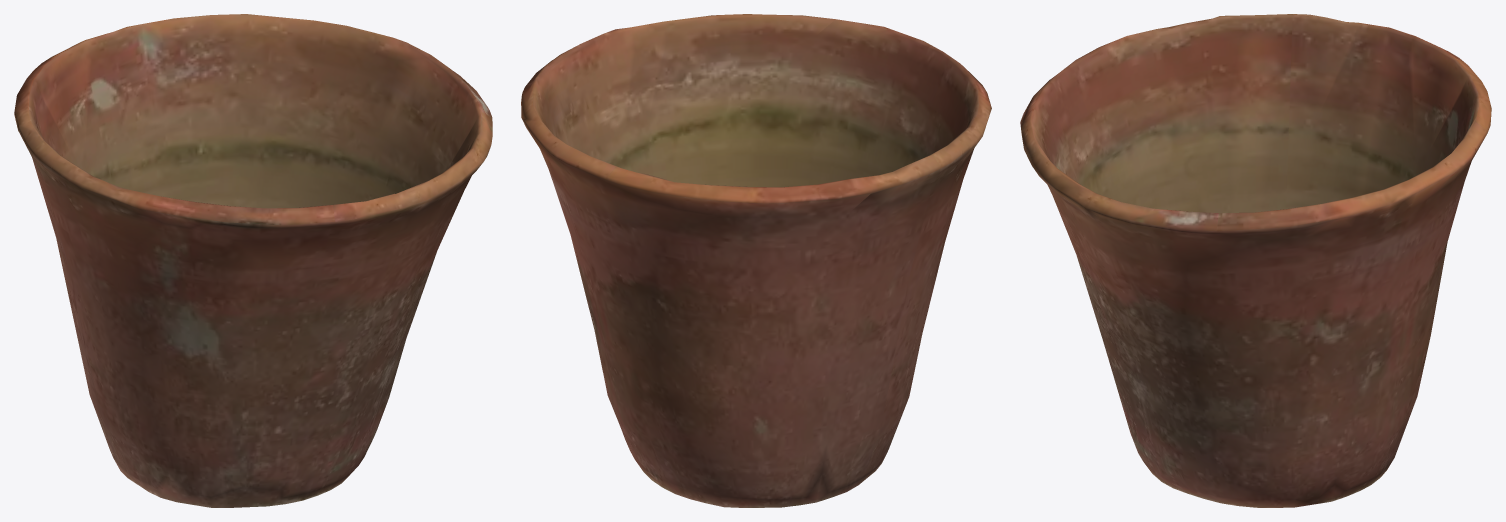
File: planter_pot_clay.glb
3 renders of one model, left to right at view 1: azimuth 30°, elevation 25°; view 2: azimuth 150°, elevation 25°; view 3: azimuth 270°, elevation 25°, orthographic.
Visible parts, largest first — view 1: planter_pot_clay; view 2: planter_pot_clay; view 3: planter_pot_clay.
Part boxes in pixels (x1,y1,x2,y2): planter_pot_clay: [14, 14, 492, 507]; planter_pot_clay: [521, 14, 991, 507]; planter_pot_clay: [1020, 14, 1491, 507].
Size of the model in its own units: 0.2656 by 0.2218 by 0.2635.
Materials: 1 (1 with a texture image).
